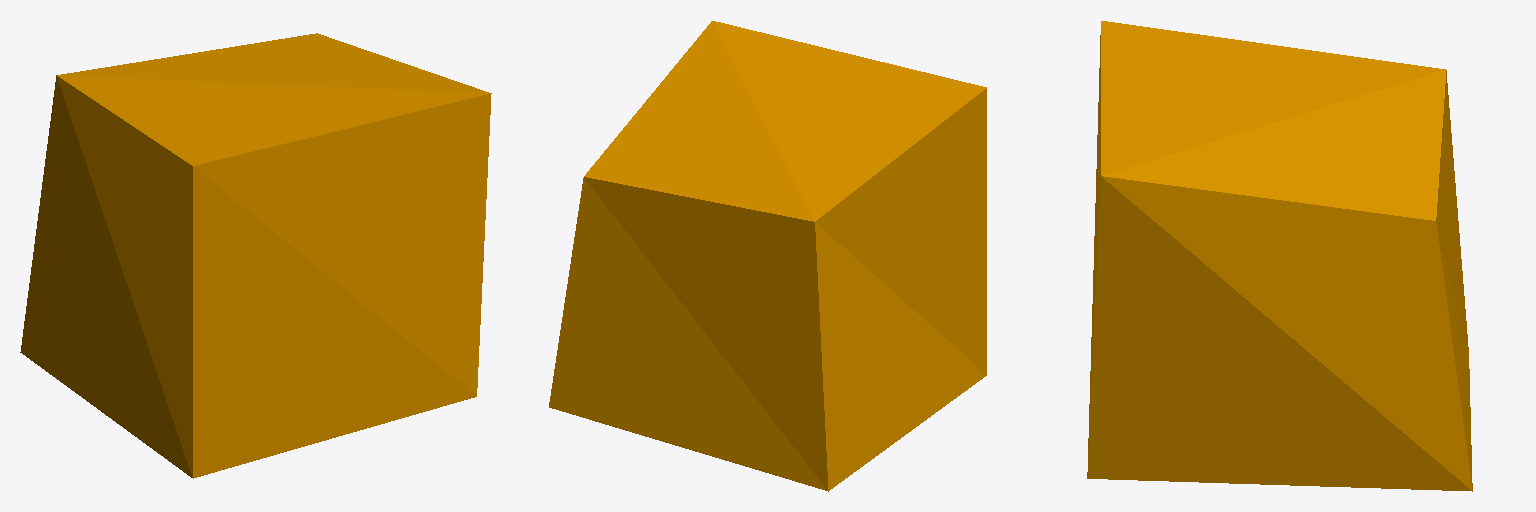
robot.urdf — object:
<?xml version="1.0"?>
<robot name="object">
  <link name="object">
    <visual>
      <origin xyz="0 0 0"/>
      <geometry>
        <mesh filename="meshes/set2/set_obj13_irregular_block.obj" scale=".03 .03 .03"/>
      </geometry>
    </visual>
    <collision>
  <origin xyz="0 0 0"/>
  <geometry>
    <mesh filename="meshes/set2/set_obj13_irregular_block_0decompose.obj" scale=".03 .03 .03"/>
<!--          <mesh filename="meshes/custom/obj0_ball.obj" scale=".05 .05 .05"/>-->
  </geometry>
</collision>

<!--    <collision>-->
<!--      <origin xyz="0 0 0"/>-->
<!--      <geometry>-->
<!--        <mesh filename="meshes/set2/set_obj13_irregular_block.obj" scale=".03 .03 .03"/>-->
<!--&lt;!&ndash;          <mesh filename="meshes/custom/obj0_ball.obj" scale=".05 .05 .05"/>&ndash;&gt;-->
<!--      </geometry>-->
<!--    </collision>-->
    <inertial>
      <density value="1000.0"/>
    </inertial>
  </link>
</robot>

--- Facts derived from the render (not from the file) ---
Views: 3 orthographic renders of the robot side by side, from view 1: azimuth 30°, elevation 25°; view 2: azimuth 150°, elevation 25°; view 3: azimuth 270°, elevation 25°.
Model object with 1 links and 0 joints (none), rooted at object, posed every joint at zero.
Visible links, largest first — view 1: object; view 2: object; view 3: object.
Link boxes in pixels (x1,y1,x2,y2): object: (20, 33, 491, 478); object: (549, 21, 986, 491); object: (1087, 21, 1472, 491).
Size in the robot's own frame: 0.0607 by 0.0628 by 0.06 metres.
1 mesh visuals loaded from 1 distinct referenced files (1 OBJ).